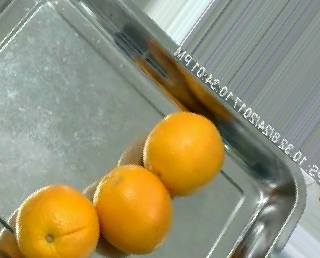Orange: (93, 162, 175, 257), (143, 111, 225, 196), (14, 180, 100, 258)
